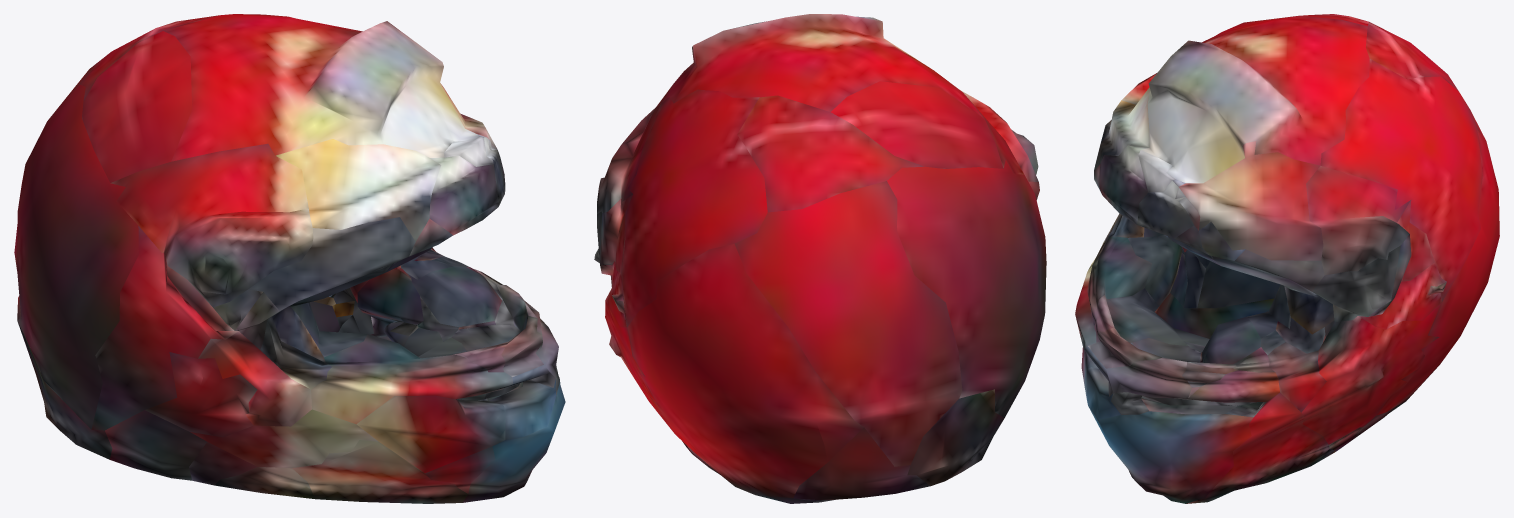
3 views of the same model, side by side, from view 1: azimuth 30°, elevation 25°; view 2: azimuth 150°, elevation 25°; view 3: azimuth 270°, elevation 25° (orthographic). The views are drawn at different scales.
Size of the model in its own units: 0.5046 by 0.4882 by 0.4797.
1 material, 1 textured.
